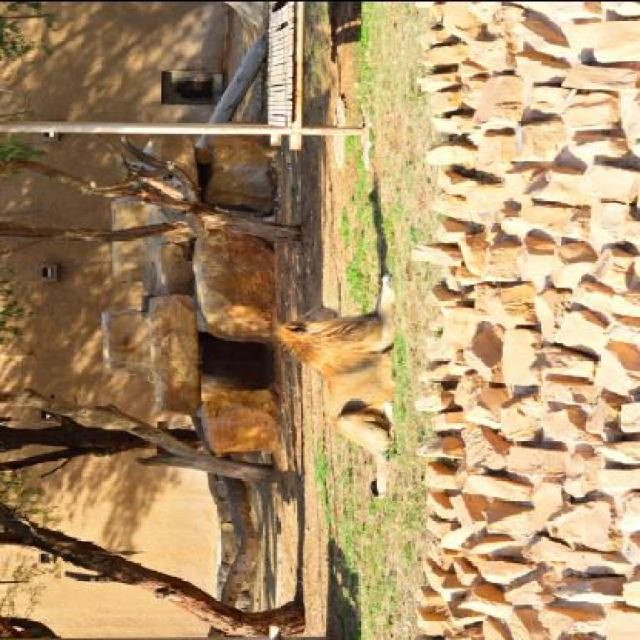Lion: (266, 269, 409, 500)
